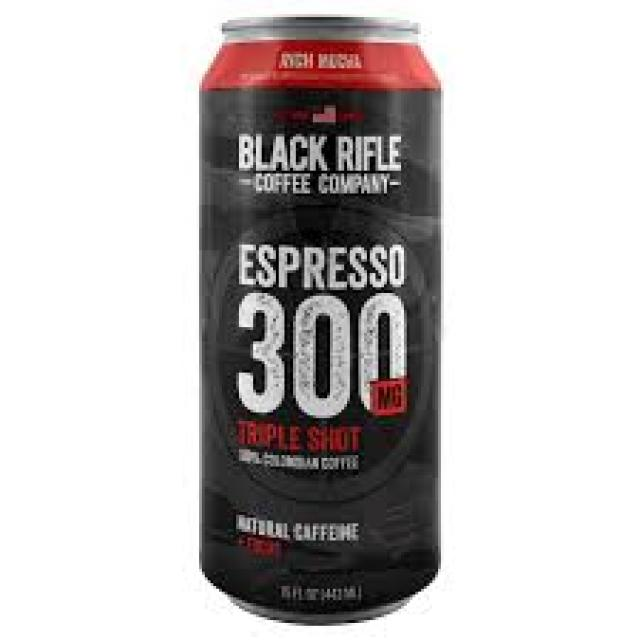Cans: (188, 3, 461, 626)
